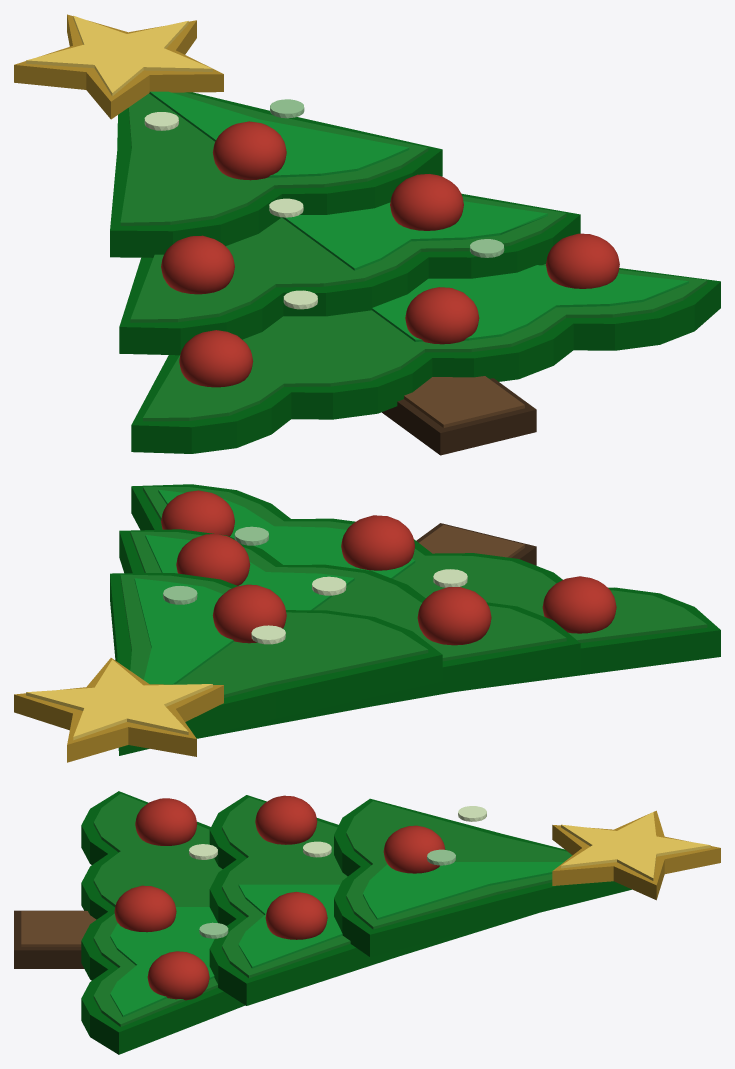
File: book_pinheiro.fbx
3 views of the same model, one above another, from view 1: azimuth 30°, elevation 25°; view 2: azimuth 150°, elevation 25°; view 3: azimuth 270°, elevation 25° (orthographic). The views are drawn at different scales.
Parts seen in each view (by area): view 1: book_pinheiro_livro; view 2: book_pinheiro_livro; view 3: book_pinheiro_livro.
Part boxes in pixels (x1=…): book_pinheiro_livro: x1=14, y1=14, x2=720, y2=455; book_pinheiro_livro: x1=14, y1=484, x2=720, y2=762; book_pinheiro_livro: x1=14, y1=791, x2=720, y2=1054.
Bounding box in the file's own units: 2.76 × 0.64 × 3.42.
1 material, 1 textured.
